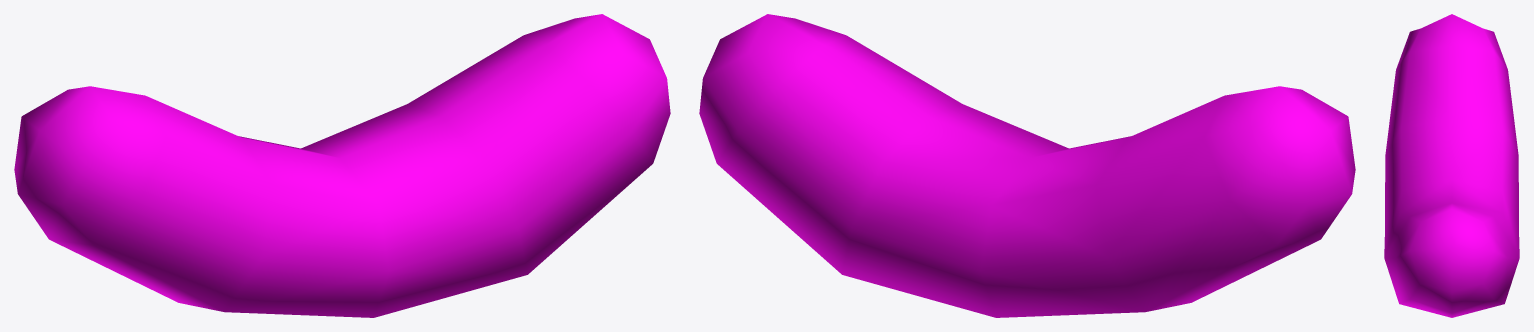
File: sausage_meshCollider.fbx
3 views of the same model, side by side, from view 1: azimuth 30°, elevation 25°; view 2: azimuth 150°, elevation 25°; view 3: azimuth 270°, elevation 25° (orthographic). The views are drawn at different scales.
Visible parts, largest first — view 1: foods_sausage_meshCollider; view 2: foods_sausage_meshCollider; view 3: foods_sausage_meshCollider.
Part boxes in pixels (x1=…): foods_sausage_meshCollider: x1=14, y1=14, x2=670, y2=317; foods_sausage_meshCollider: x1=699, y1=14, x2=1355, y2=317; foods_sausage_meshCollider: x1=1384, y1=14, x2=1519, y2=317.
Size of the model in its own units: 17.28 by 7.17 by 4.84.
